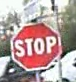stop: (9, 22, 61, 68)
